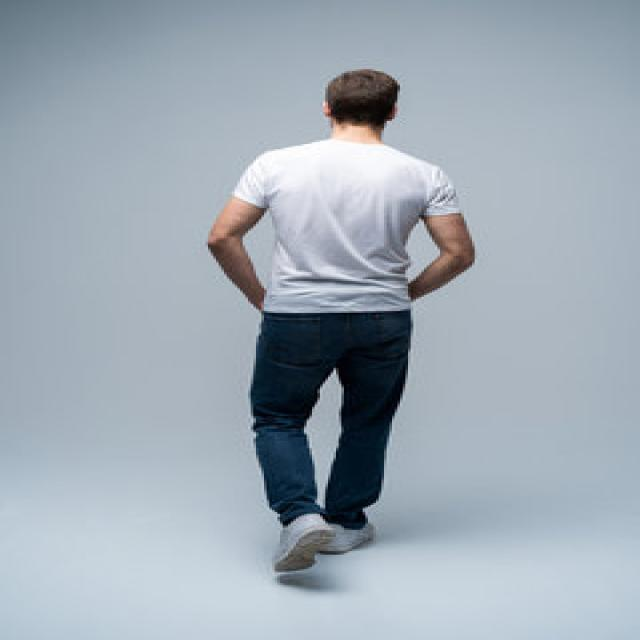Person: (206, 71, 476, 572)
